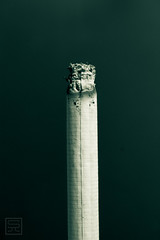cigarette: (61, 59, 104, 240)
